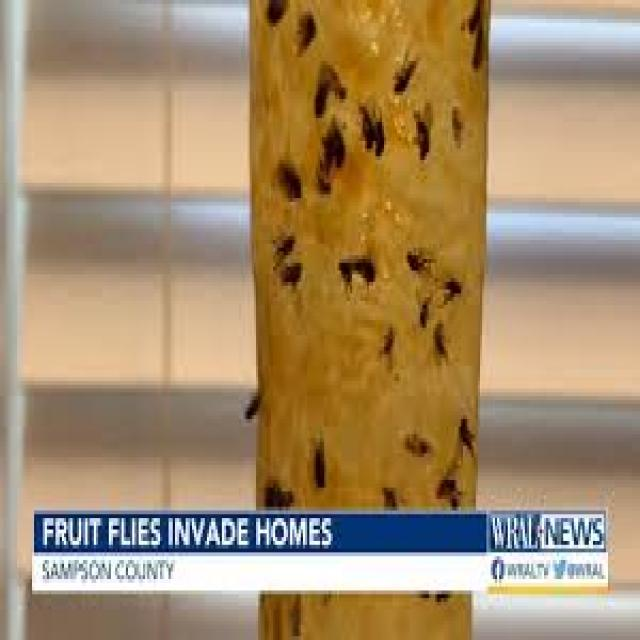fruit fly: (384, 30, 420, 103), (406, 88, 436, 168), (267, 144, 303, 210), (262, 217, 299, 274), (311, 49, 348, 106), (395, 415, 433, 469), (399, 232, 439, 282), (431, 255, 465, 312), (460, 12, 490, 76), (303, 427, 331, 495), (234, 377, 266, 431), (450, 400, 478, 461), (288, 0, 316, 61), (408, 270, 435, 332), (373, 308, 399, 369), (444, 88, 467, 156), (365, 95, 388, 160), (352, 88, 375, 152), (348, 244, 378, 293), (256, 468, 294, 506), (273, 248, 305, 293), (328, 248, 358, 293), (427, 308, 450, 366), (303, 65, 328, 118), (305, 156, 333, 202), (426, 465, 461, 499), (460, 0, 488, 34)
